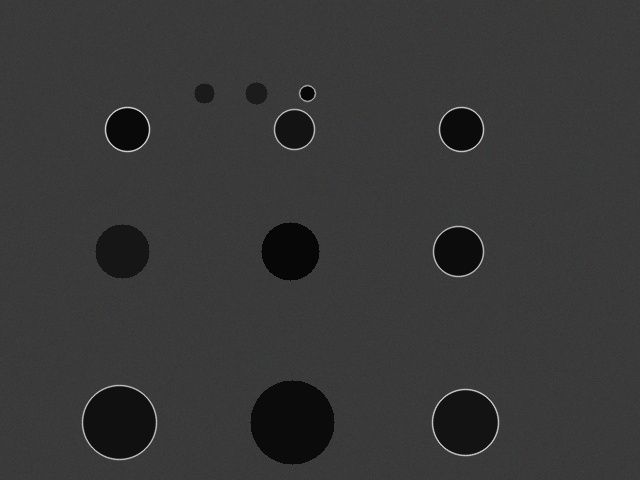hole: (250, 380, 334, 464), (82, 385, 156, 459), (432, 389, 498, 455), (261, 222, 319, 280), (95, 224, 149, 278), (433, 226, 483, 276), (105, 107, 149, 151), (439, 107, 483, 151), (274, 109, 314, 149), (245, 82, 267, 104), (194, 83, 214, 103), (299, 85, 315, 101)
